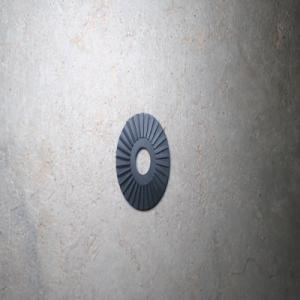Washer: (116, 112, 170, 210)
